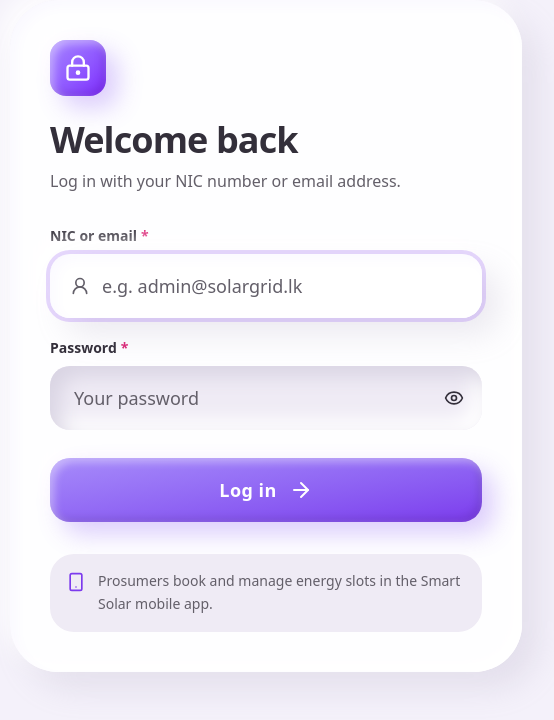
Test case: LoginPage › shows the API message for a wrong password
The image size is (554, 720).
Type "admin@solargrid.lk" into the field labelled "NIC or email" at x=266, y=286, box [50, 254, 482, 318]
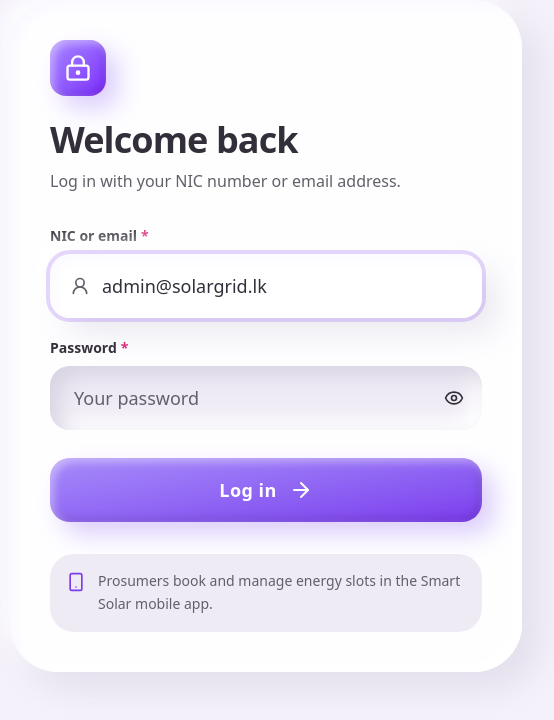
Type "wrong" into the password field labelled "Password" at x=266, y=398, box [50, 366, 482, 430]
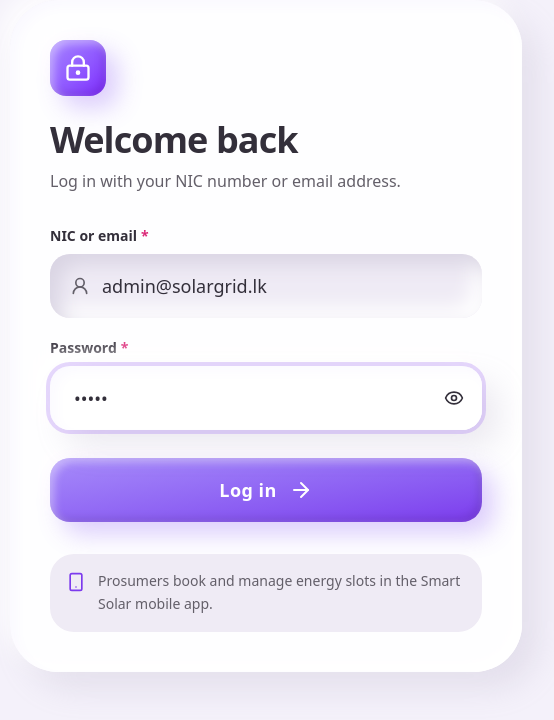
Click the button "Log in" at x=266, y=490, box [50, 458, 482, 522]
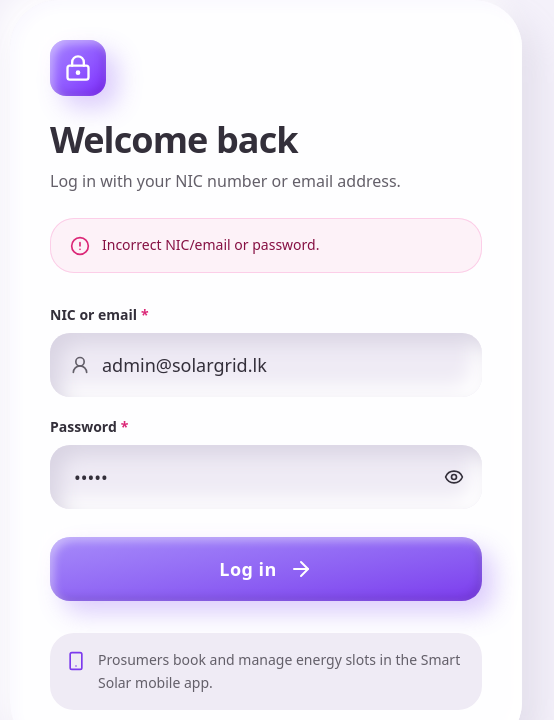
Expected: the message reads "Incorrect NIC/email or password.", [102, 235, 319, 254]
